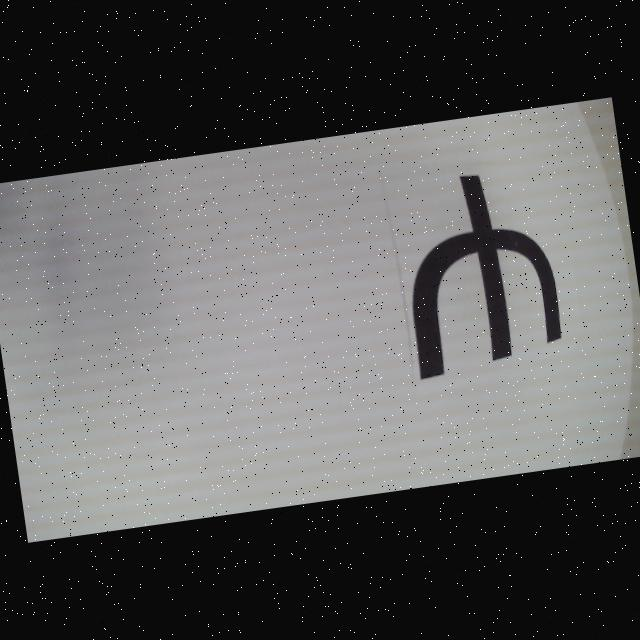PSI: (392, 164, 568, 381)
